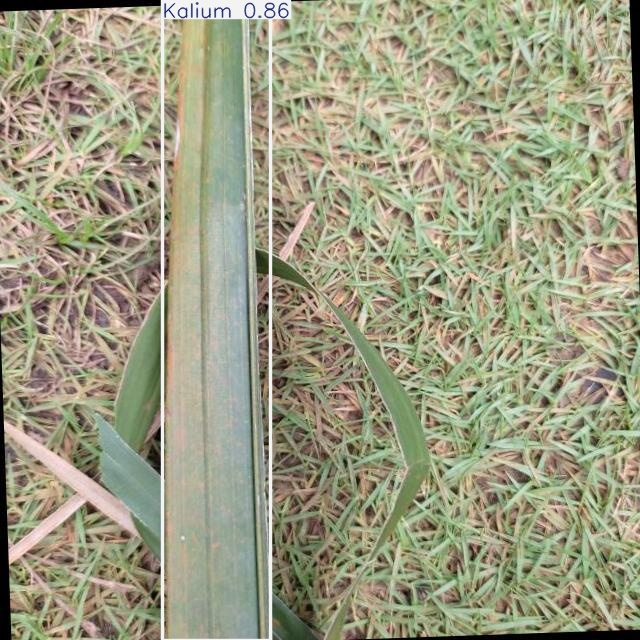Kalium: (163, 0, 270, 640)
